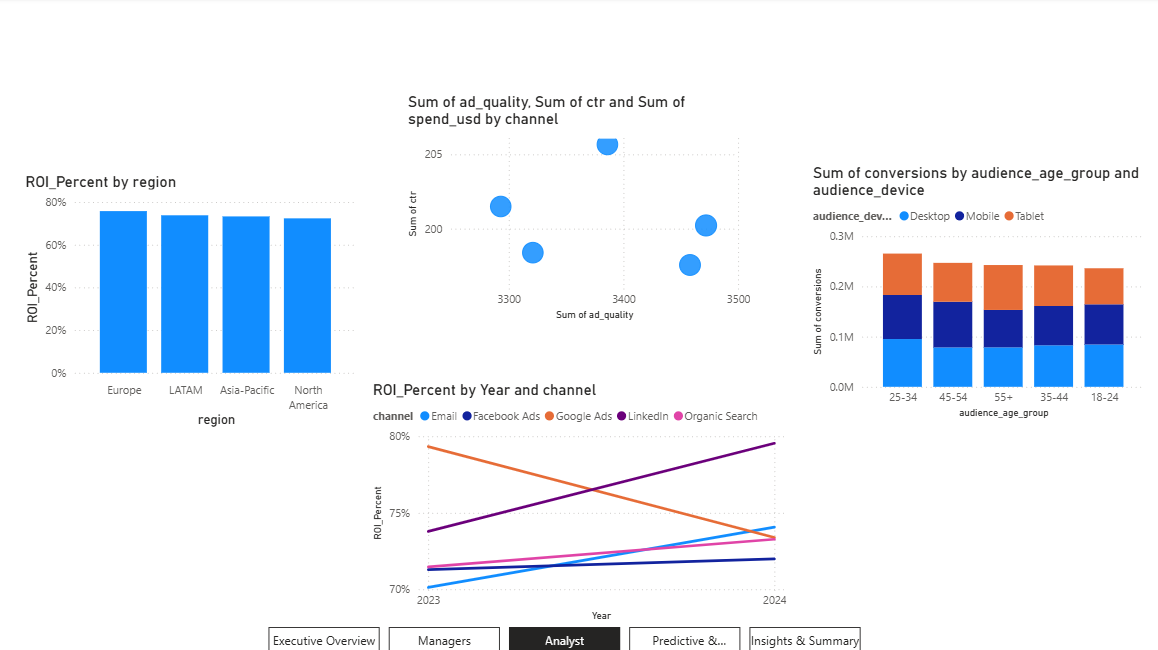

Layout of this report page (visuals, bound fields, positions):
{"tool":"powerbi","page":{"name":"Analyst","canvas":[1280,720],"ordinal":2},"visuals":[{"type":"columnChart","fields":{"Category":["marketing_campaign_portfolio_python.audience_age_group"],"Y":["Sum(marketing_campaign_portfolio_python.conversions)"],"Series":["marketing_campaign_portfolio_python.audience_device"]},"box":[891.9,182.5,374.6,285.4],"z":0},{"type":"clusteredColumnChart","fields":{"Category":["marketing_campaign_portfolio_python.region"],"Y":["marketing_campaign_portfolio_python.ROI_Percent"]},"box":[27.4,192.1,374.6,285.4],"z":1000},{"type":"scatterChart","fields":{"X":["Sum(marketing_campaign_portfolio_python.ad_quality)"],"Y":["Sum(marketing_campaign_portfolio_python.ctr)"],"Category":["marketing_campaign_portfolio_python.channel"],"Size":["Sum(marketing_campaign_portfolio_python.spend_usd)"]},"box":[447.3,104.3,385.6,255.2],"z":2000},{"type":"lineChart","fields":{"Category":["marketing_campaign_portfolio_python.date.Variation.Date Hierarchy.Year","marketing_campaign_portfolio_python.date.Variation.Date Hierarchy.Quarter","marketing_campaign_portfolio_python.date.Variation.Date Hierarchy.Month","marketing_campaign_portfolio_python.date.Variation.Date Hierarchy.Day"],"Y":["marketing_campaign_portfolio_python.ROI_Percent"],"Series":["marketing_campaign_portfolio_python.channel"]},"box":[408.9,421.3,463.8,269],"z":3000},{"type":"pageNavigator","box":[299.1,691.2,653.2,28.8],"z":4000}]}

Visuals, with their boxes in screenshot pixels (x1, y1, x2, y2), scaled from the page's 1280x720 canvas onto the 1158x650 screenshot:
columnChart - marketing_campaign_portfolio_python.audience_age_group x Sum(marketing_campaign_portfolio_python.conversions): [left=807, top=165, right=1146, bottom=422]
clusteredColumnChart - marketing_campaign_portfolio_python.region x marketing_campaign_portfolio_python.ROI_Percent: [left=25, top=173, right=364, bottom=431]
scatterChart - Sum(marketing_campaign_portfolio_python.ad_quality) x Sum(marketing_campaign_portfolio_python.ctr): [left=405, top=94, right=754, bottom=325]
lineChart - marketing_campaign_portfolio_python.date.Variation.Date Hierarchy.Year x marketing_campaign_portfolio_python.date.Variation.Date Hierarchy.Quarter: [left=370, top=380, right=790, bottom=623]
pageNavigator: [left=271, top=624, right=862, bottom=649]
